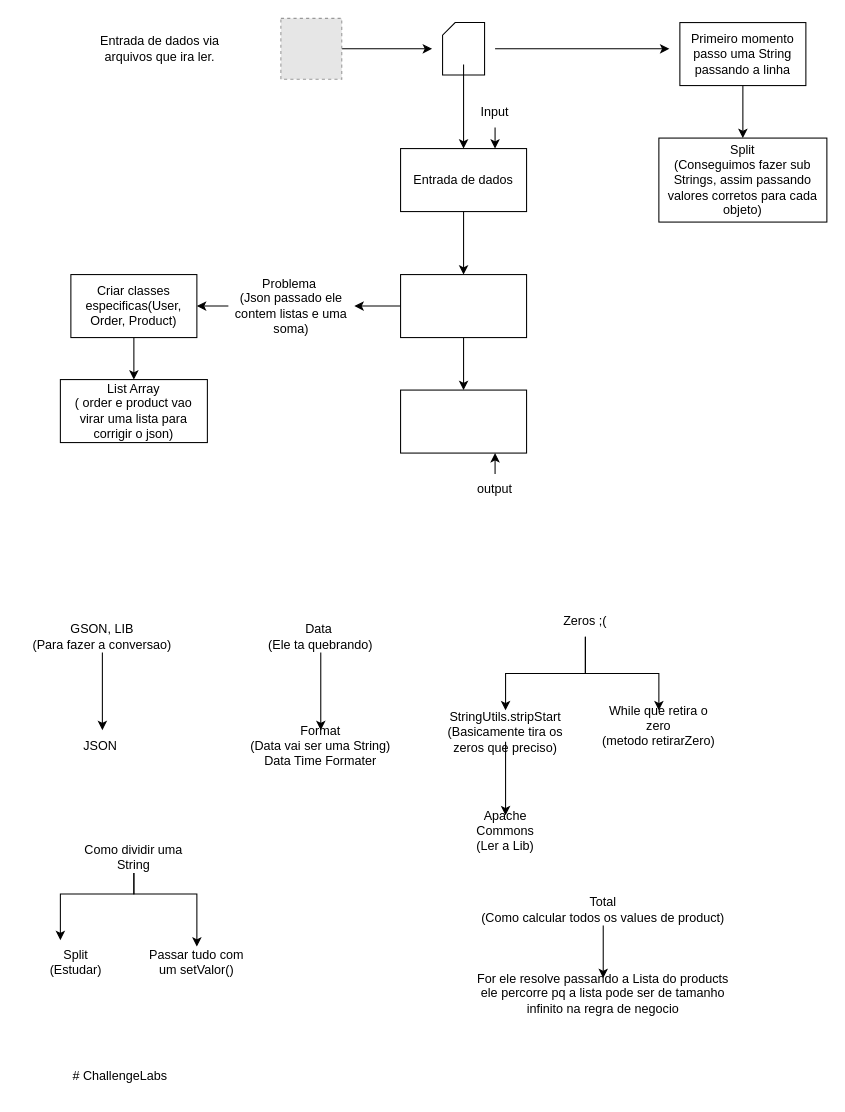
The diagram is 845 pixels wide and 1112 high, and some of its shapes have lost their labels. Grey dashed boxes stand in for pictures. The shapes that lost their labels are listed below. From the top down, each one's centre as x and y in pixels, then its label:
the point at 463,48: Text
the point at 463,306: Criar uma classe com seus atributos e metodos
the point at 463,421: Saida de dados (JSON)
